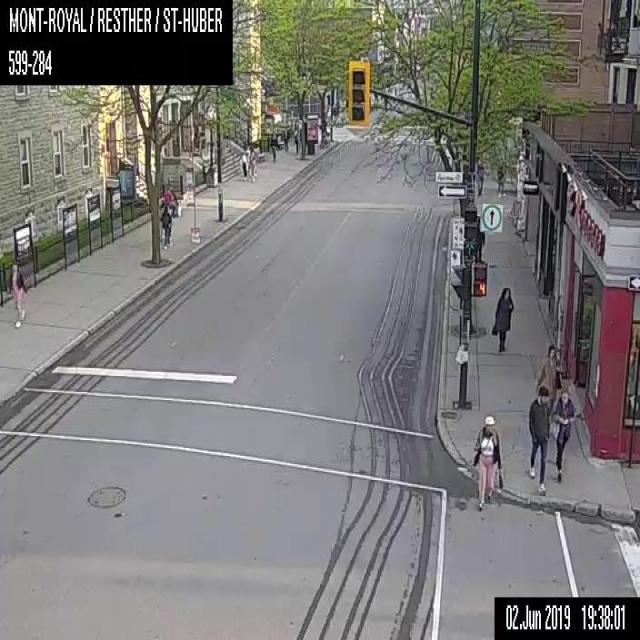pedestrian: (471, 413, 503, 511), (528, 385, 549, 492), (550, 389, 574, 482), (537, 343, 560, 408), (491, 286, 513, 351), (9, 263, 26, 328), (159, 205, 171, 247), (248, 147, 257, 180), (240, 148, 248, 180), (496, 168, 504, 196), (476, 167, 484, 194), (272, 133, 278, 160), (283, 126, 289, 150)
